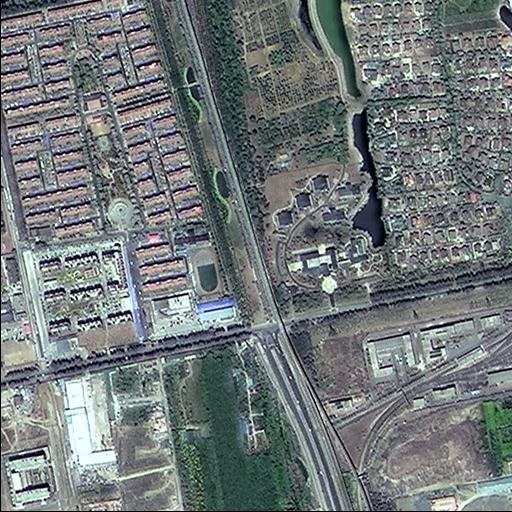school: (169, 219, 228, 301)
